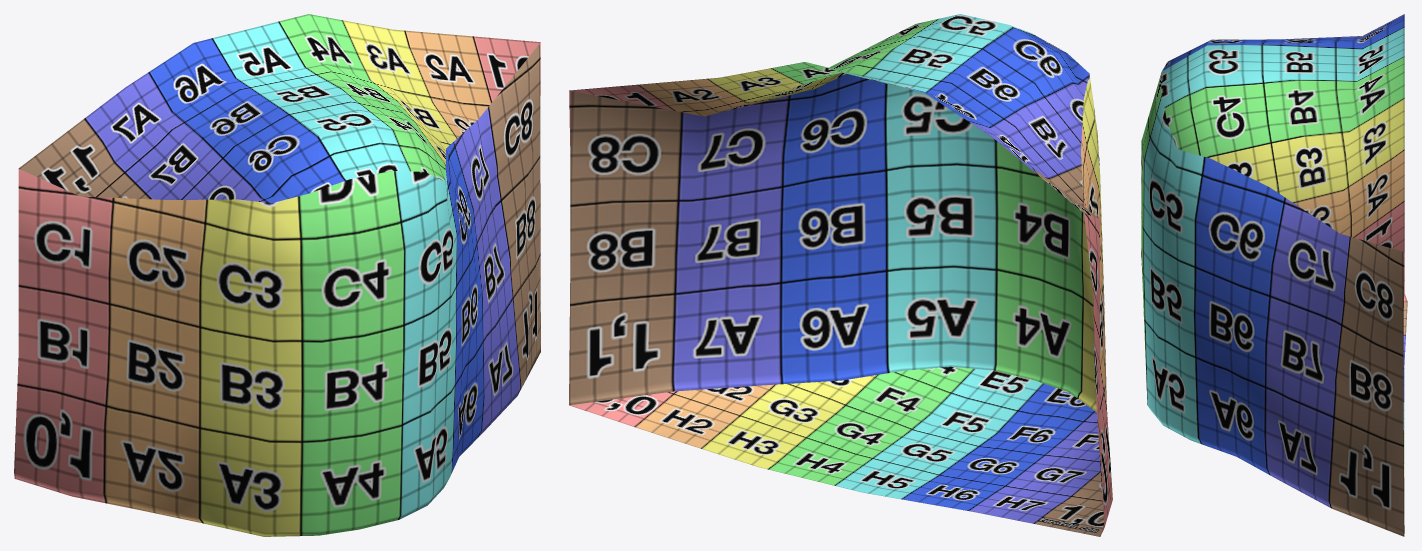
The model's file is grotte_startBehind.fbx.
3 views of the same model, side by side, from view 1: azimuth 30°, elevation 25°; view 2: azimuth 150°, elevation 25°; view 3: azimuth 270°, elevation 25° (orthographic). The views are drawn at different scales.
Visible parts, largest first — view 1: grotte_startBehind; view 2: grotte_startBehind; view 3: grotte_startBehind.
Part boxes in pixels (left/top/right/bottom): grotte_startBehind: left=14, top=14, right=540, bottom=536; grotte_startBehind: left=569, top=14, right=1112, bottom=536; grotte_startBehind: left=1141, top=14, right=1407, bottom=536.
Bounding box in the file's own units: 866 × 644 × 412.
1 material, 1 textured.
